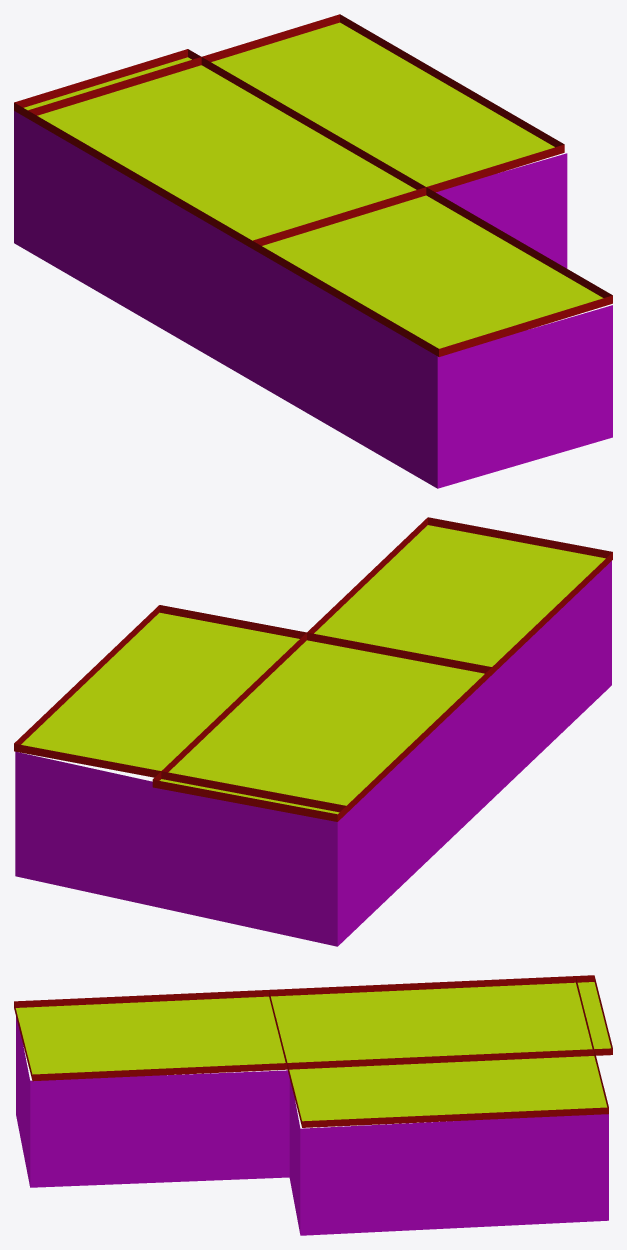
File: bgj_205.glb
The picture shows the model from 3 angles, top to bottom: view 1: azimuth 30°, elevation 25°; view 2: azimuth 150°, elevation 25°; view 3: azimuth 270°, elevation 25°; orthographic projection. The views are drawn at different scales.
Visible parts, largest first — view 1: bgj_205; view 2: bgj_205; view 3: bgj_205.
Boxes of the visible parts, x1,y1,x2,y2 form: bgj_205: (14,14,612,488); bgj_205: (14,517,612,946); bgj_205: (14,975,612,1235).
Size of the model in its own units: 16.39 by 5.93 by 28.28.
